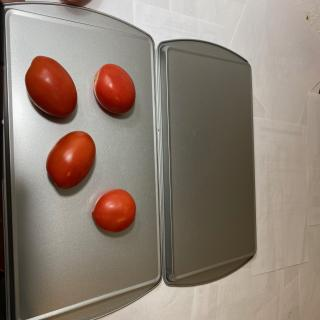Tomato: (24, 55, 78, 117), (46, 130, 96, 189), (93, 63, 136, 114), (92, 188, 136, 232)
